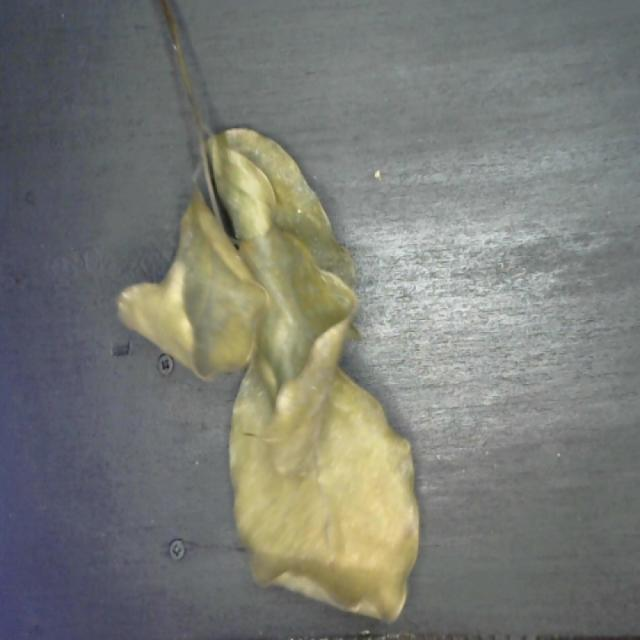biodegradable: (107, 118, 427, 640)
